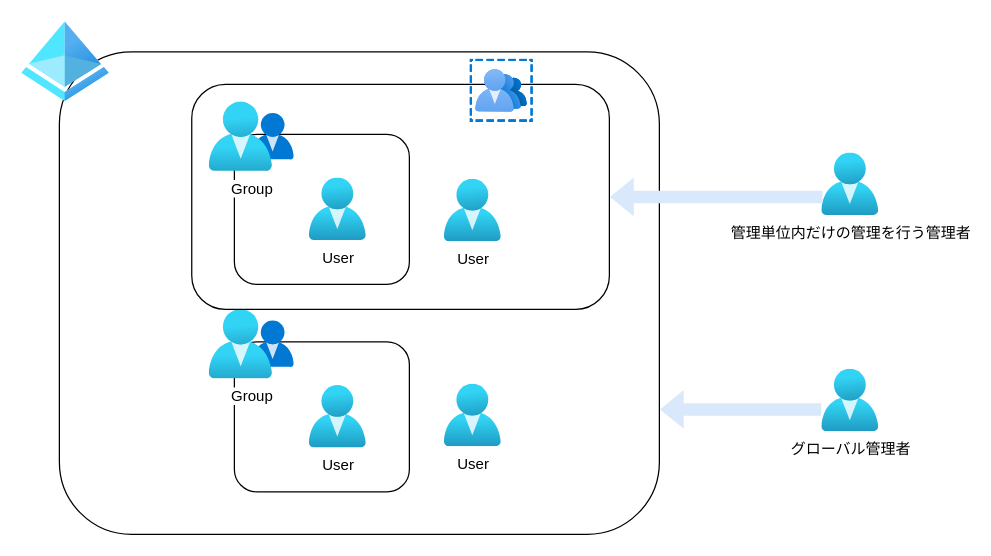
The diagram is 991 pixels wide and 556 high, and some of its shapes have lost their labels. Each missing label, with the centre of its shape:
"administrative unit" belongs at point (501, 90).
"EntraID" belongs at point (65, 61).
